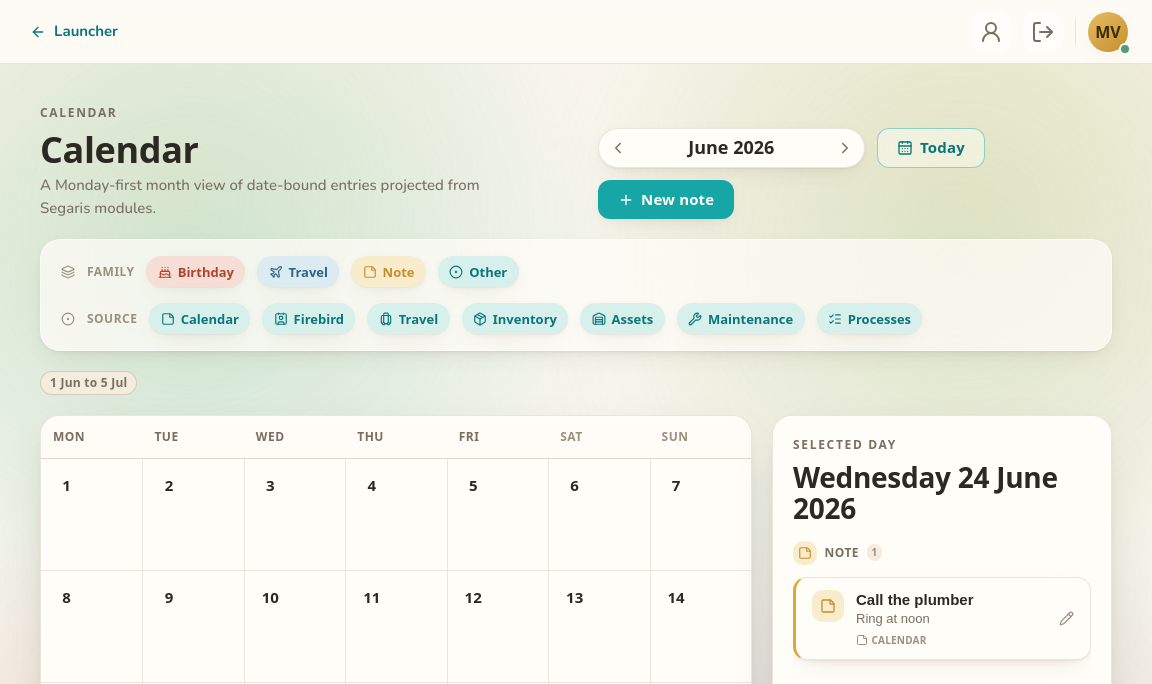
Test: Calendar daily-note workflow › opens the edit editor from a day-detail note and prefills it
The width and height of the screenshot is (1152, 684).
Click the button with aria-label "Edit note Call the plumber" at (828, 606), box x1=793 y1=577 x2=1091 y2=660
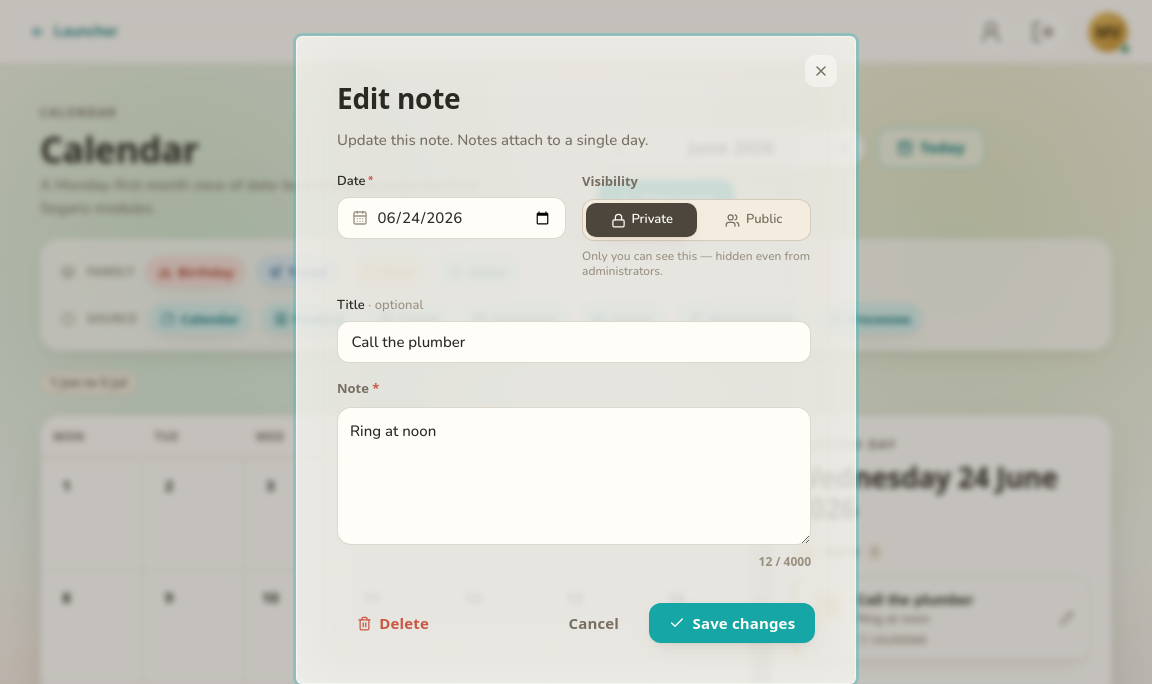
Check: the text box labelled "Note" holds "Ring at noon", box x1=337 y1=407 x2=811 y2=545
Check: the radio button labelled "Private" is checked, box x1=586 y1=203 x2=698 y2=237
